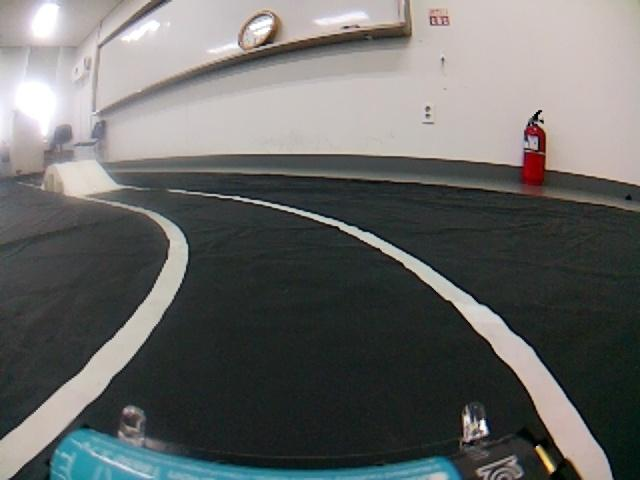straight: (5, 202, 640, 474)
